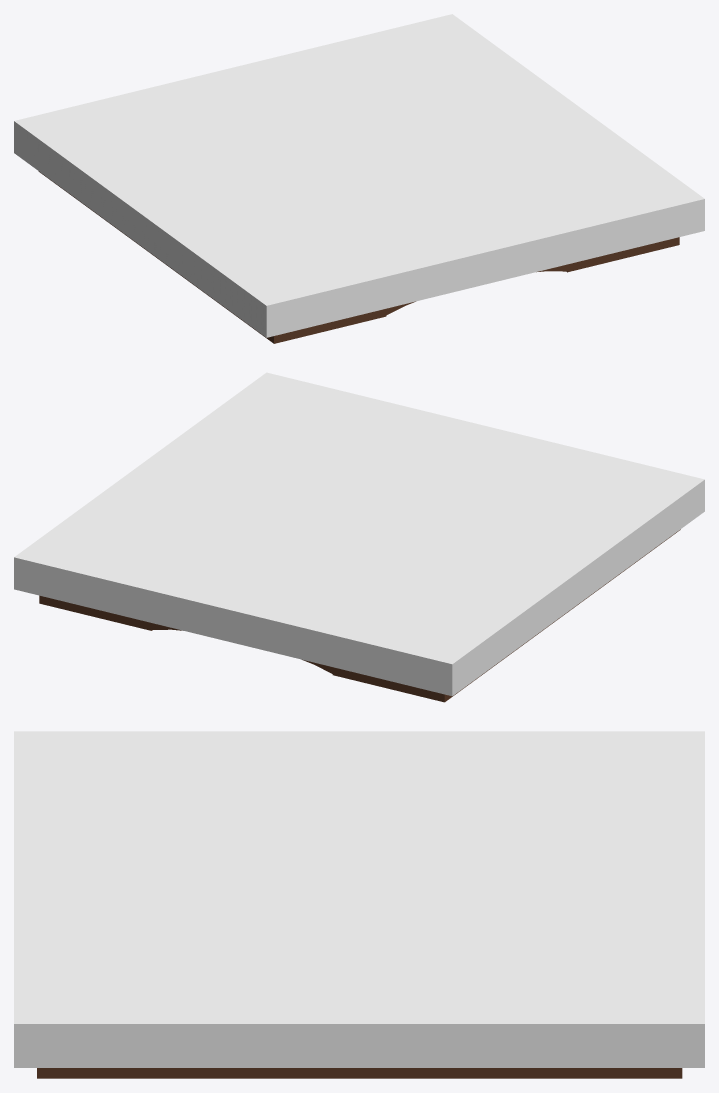
3 views of the same model, one above another, from view 1: azimuth 30°, elevation 25°; view 2: azimuth 150°, elevation 25°; view 3: azimuth 270°, elevation 25° (orthographic). The views are drawn at different scales.
Parts seen in each view (by area): view 1: CH12_UpImpluvium, MainModel:0; view 2: CH12_UpImpluvium, MainModel:0; view 3: CH12_UpImpluvium, MainModel:0.
Part boxes in pixels (x1=…): CH12_UpImpluvium: x1=14, y1=14, x2=704, y2=337; MainModel:0: x1=38, y1=171, x2=679, y2=343; CH12_UpImpluvium: x1=14, y1=372, x2=704, y2=696; MainModel:0: x1=39, y1=529, x2=680, y2=702; CH12_UpImpluvium: x1=14, y1=731, x2=704, y2=1067; MainModel:0: x1=37, y1=1068, x2=682, y2=1078.
Size of the model in its own units: 1.66 by 0.2272 by 1.66.
